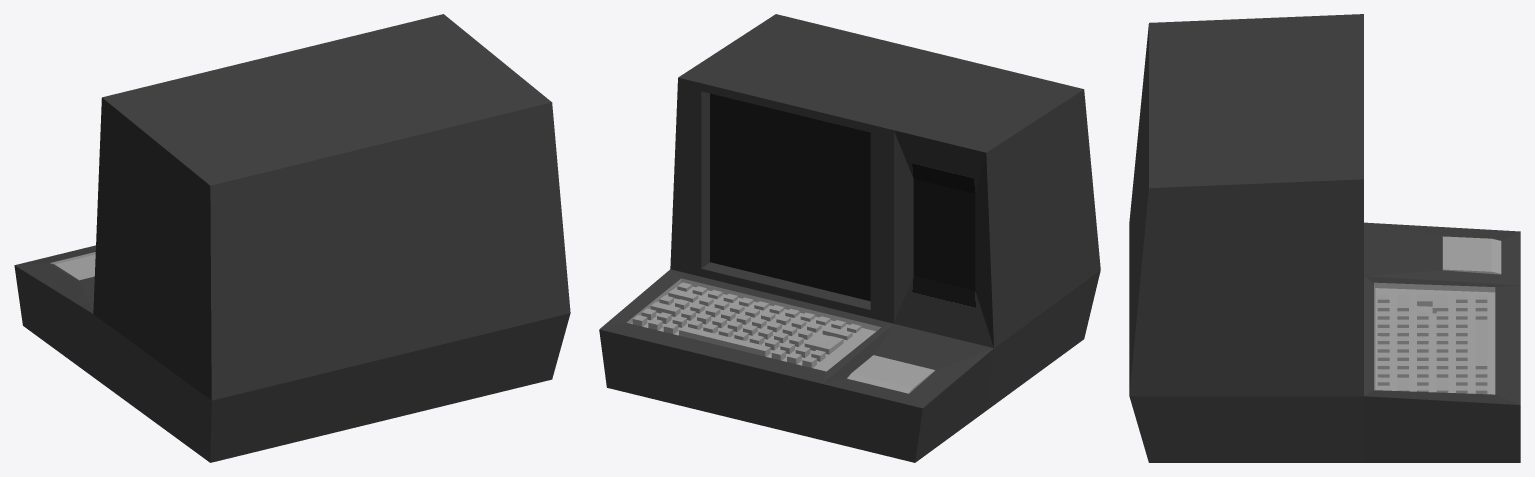
Rendered from terminal.glb.
3 renders of one model, left to right at view 1: azimuth 30°, elevation 25°; view 2: azimuth 150°, elevation 25°; view 3: azimuth 270°, elevation 25°, orthographic. The views are drawn at different scales.
Parts seen in each view (by area): view 1: terminal; view 2: terminal; view 3: terminal.
Part boxes in pixels (x1,y1,x2,y2): terminal: (14,14,570,462); terminal: (599,14,1100,462); terminal: (1129,14,1520,462).
Size of the model in its own units: 0.6562 by 0.5 by 0.625.
1 material, 1 textured.
